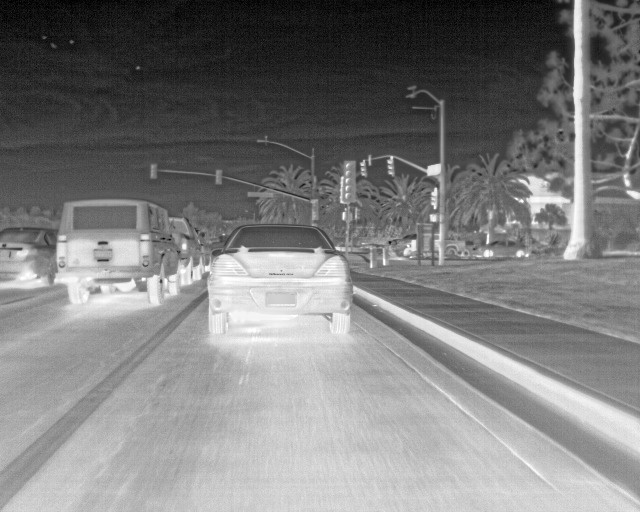vehicle: (208, 221, 353, 337), (56, 198, 173, 305), (1, 225, 67, 297), (165, 214, 205, 289)
